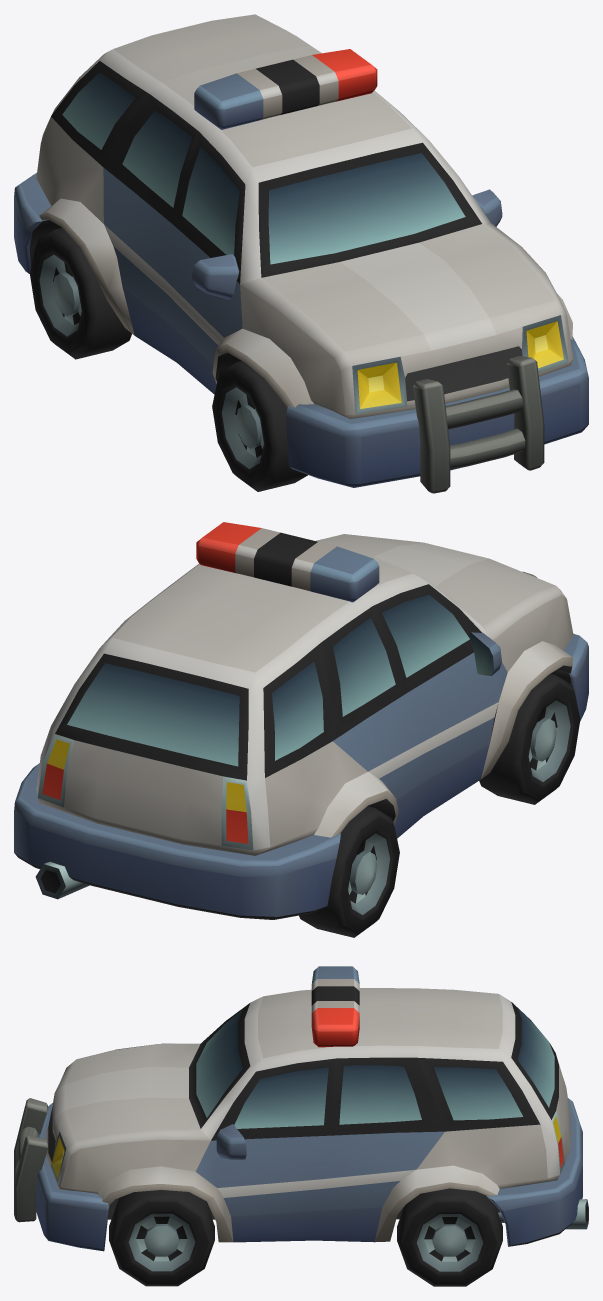
Rendered from police_SUV.fbx.
The picture shows the model from 3 angles, top to bottom: view 1: azimuth 30°, elevation 25°; view 2: azimuth 150°, elevation 25°; view 3: azimuth 270°, elevation 25°; orthographic projection. The views are drawn at different scales.
Visible parts, largest first — view 1: SUV_police, wheel_SUV_back, wheel_SUV_front_right; view 2: SUV_police, wheel_SUV_front_right, wheel_SUV_back; view 3: SUV_police, wheel_SUV_front_left, wheel_SUV_back.
Boxes of the visible parts, x1,y1,x2,y2 form: SUV_police: (14, 14, 588, 493); wheel_SUV_back: (30, 228, 131, 359); wheel_SUV_front_right: (212, 361, 307, 491); SUV_police: (14, 522, 588, 919); wheel_SUV_front_right: (479, 673, 580, 804); wheel_SUV_back: (299, 806, 399, 937); SUV_police: (14, 966, 588, 1251); wheel_SUV_front_left: (109, 1190, 214, 1286); wheel_SUV_back: (397, 1188, 502, 1286).
Size of the model in its own units: 250 by 226 by 501.
Materials: 1 (1 with a texture image).
